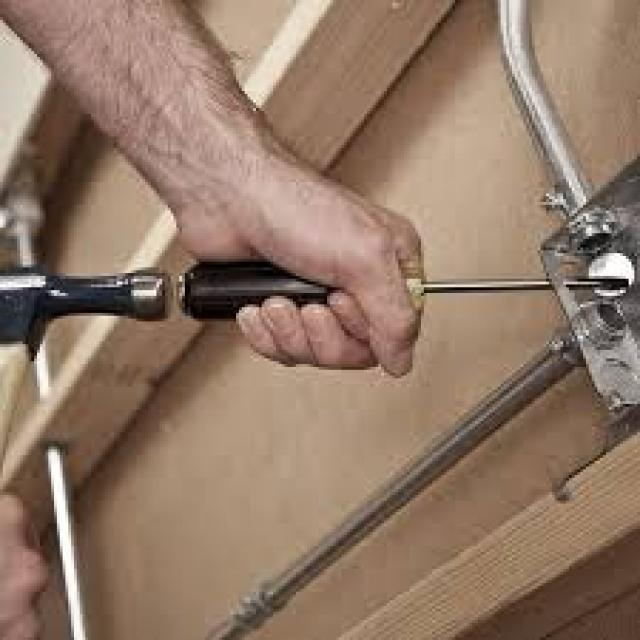screwdriver: (160, 244, 640, 324)
